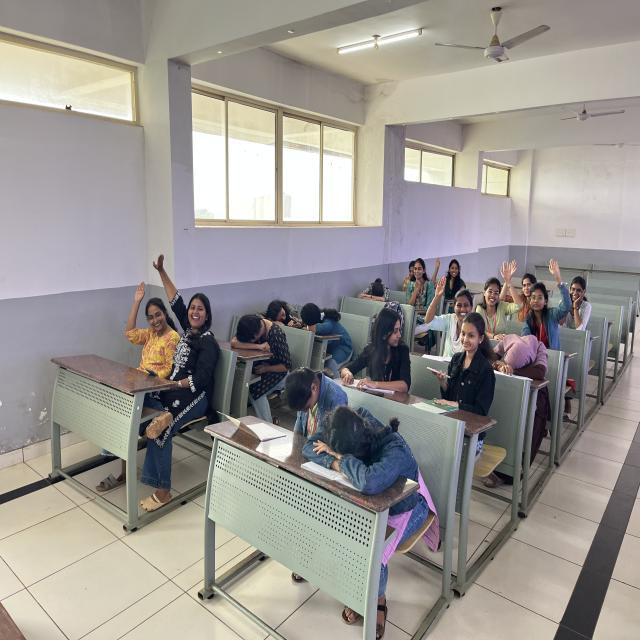Hand Rising: (146, 250, 209, 360), (126, 276, 167, 378), (530, 251, 574, 339), (473, 264, 525, 332), (424, 276, 477, 338), (497, 248, 536, 316), (432, 252, 464, 291)
Sleeping: (299, 393, 442, 570), (487, 327, 558, 425), (226, 308, 293, 399), (296, 299, 358, 374), (254, 290, 302, 330), (358, 274, 392, 306)
Using Phone: (140, 246, 220, 437), (422, 307, 500, 416)
